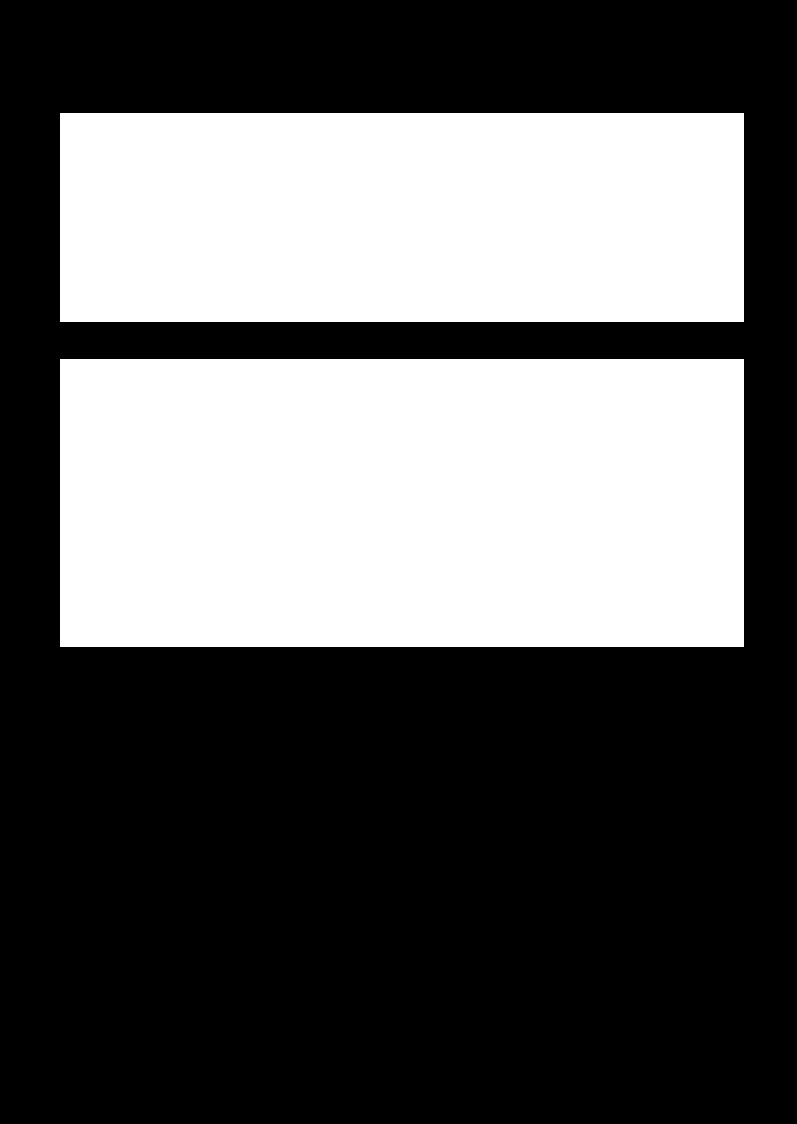table: (60, 359, 743, 646), (60, 113, 743, 321)
